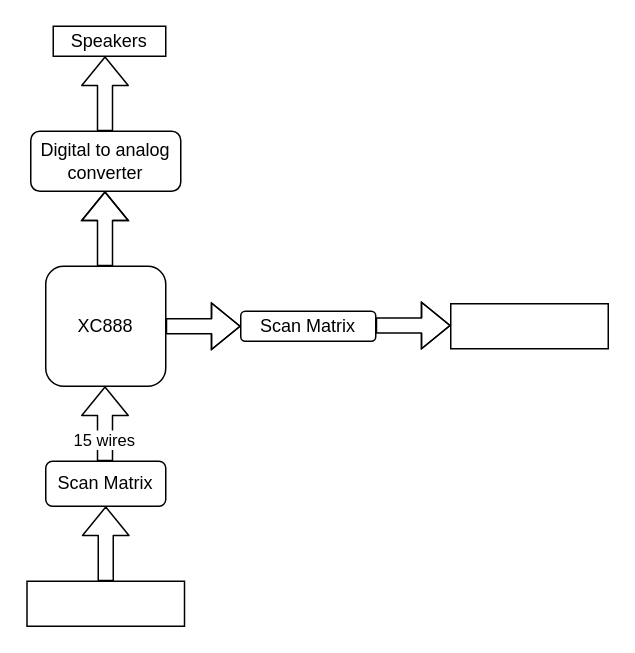
The diagram is 635 pixels wide and 653 high, and some of its shapes have lost their labels. The shapes that lost their labels are listed below. From the top down, each one's centre as x and y in pixels, then its label:
At point 528,325: "61 leds of keys".
At point 105,603: "61 keys of piano".
